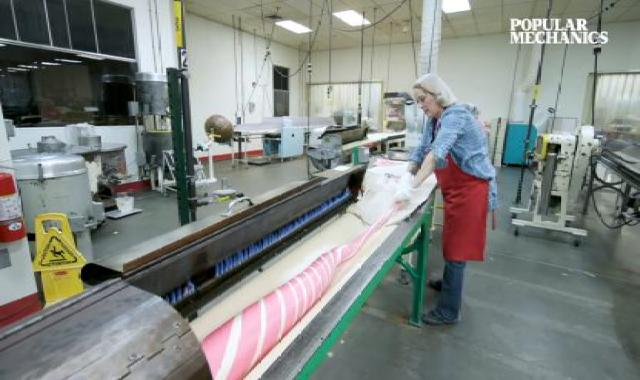hairnet: (395, 74, 458, 122)
